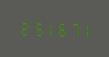five: (29, 19, 40, 36)
one: (42, 19, 53, 36), (78, 20, 89, 37)
seven: (66, 20, 77, 37)
six: (54, 19, 65, 37)
two: (17, 19, 28, 36)
